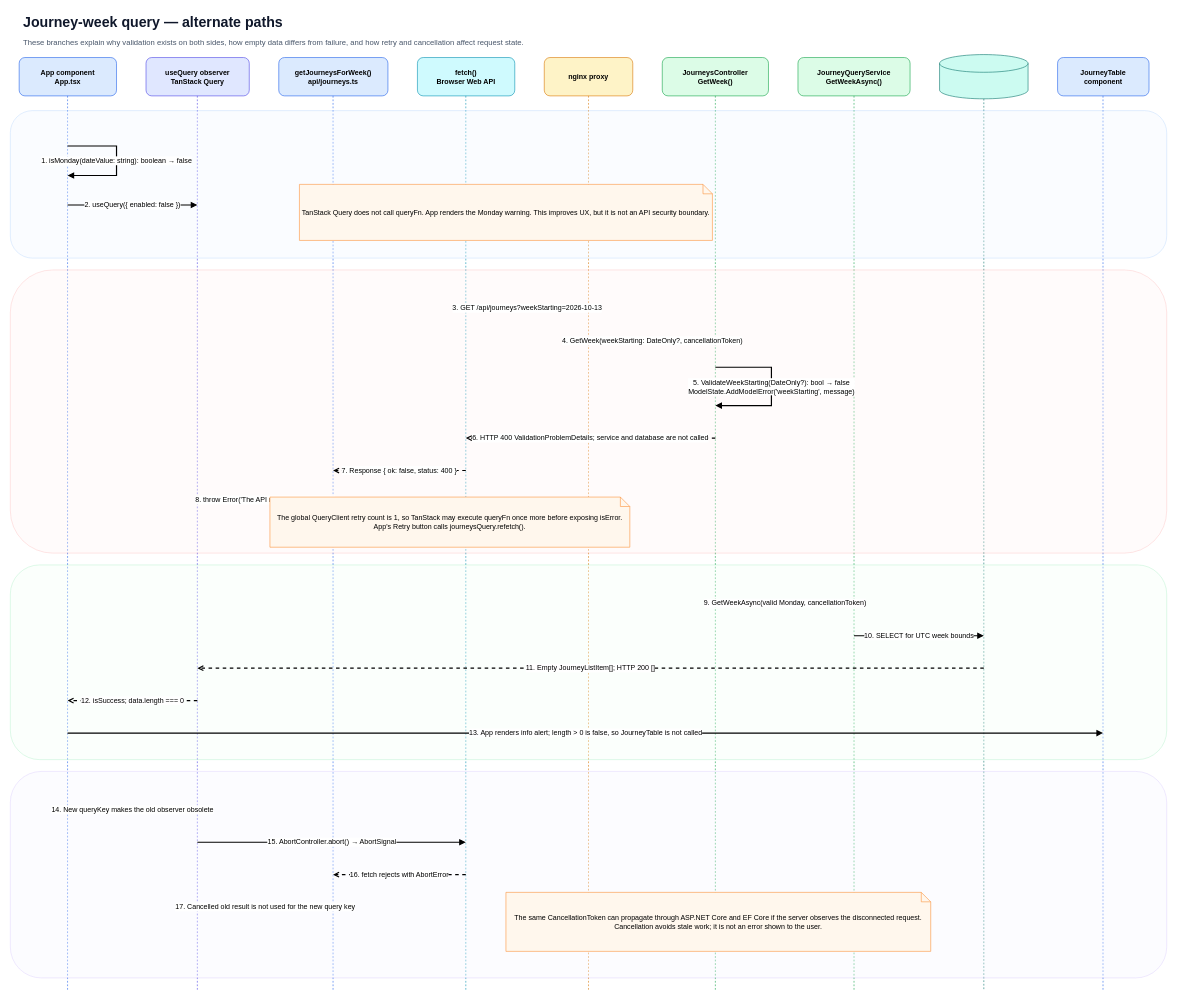
The diagram is 1177 pixels wide and 1001 high, and some of its shapes have lost their labels. The box of each missing label's shape, as (x1, y1, x2, y2) in pixels:
A — Frontend rejects a non-Monday before any network request: (10, 110, 1167, 258)
B — A direct client bypasses the UI and sends an invalid date: (10, 269, 1167, 553)
C — Valid week, but no rows exist: (10, 564, 1167, 760)
D — The selected week changes while a request is in flight: (10, 771, 1167, 978)
EF Core + PostgreSQL: (939, 54, 1028, 99)
